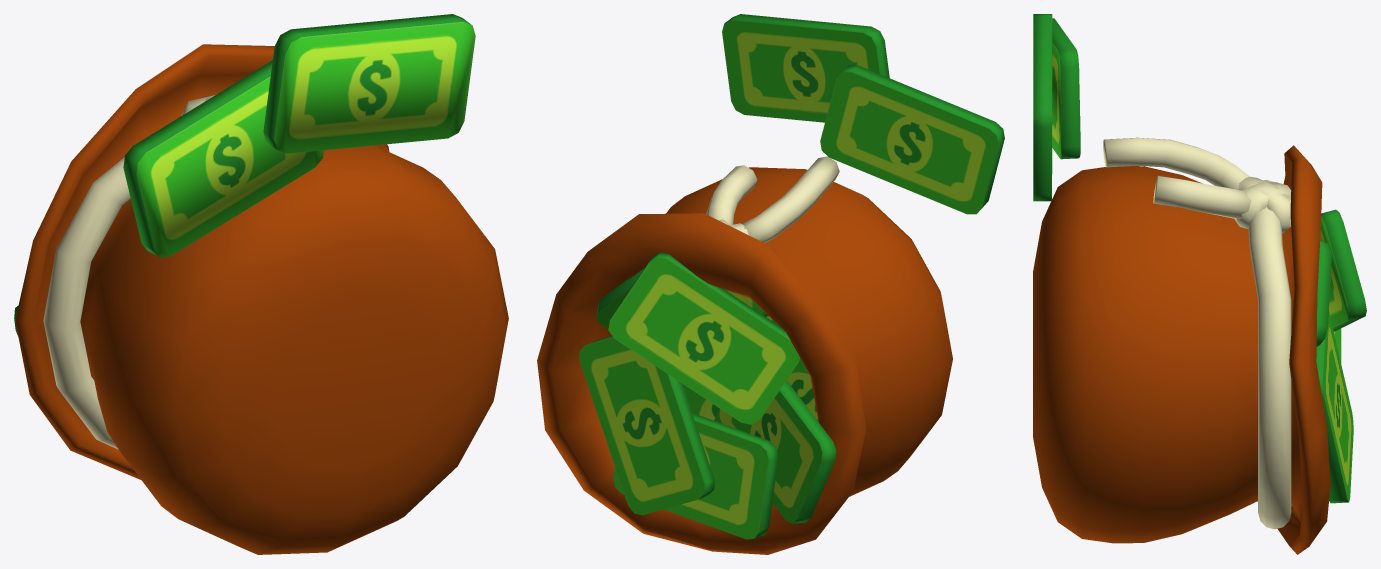
The model's file is Booster_moneybag.fbx.
3 renders of one model, left to right at view 1: azimuth 30°, elevation 25°; view 2: azimuth 150°, elevation 25°; view 3: azimuth 270°, elevation 25°, orthographic. The views are drawn at different scales.
Parts seen in each view (by area): view 1: Plane.001; view 2: Plane.001; view 3: Plane.001.
Part boxes in pixels (<box>): Plane.001: <box>14,14,508,554</box>; Plane.001: <box>537,14,1004,554</box>; Plane.001: <box>1033,14,1366,554</box>.
Size of the model in its own units: 103 by 130 by 80.12.
Materials: 2 (2 with a texture image).
